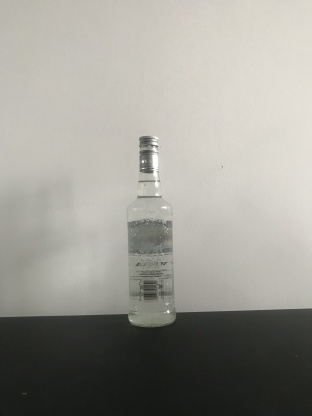nakretka: (137, 134, 160, 173)
